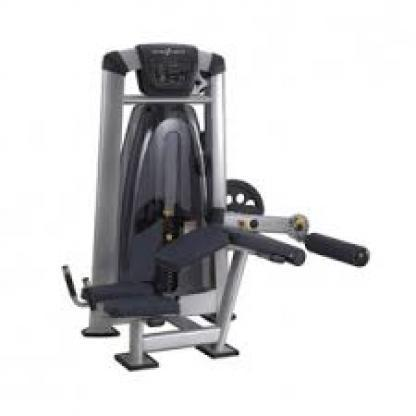reg curl machine: (58, 40, 371, 374)
